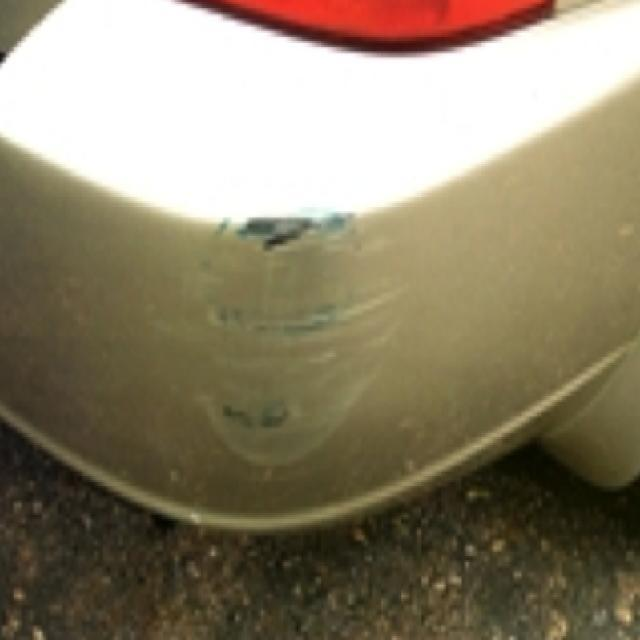scratch: (162, 195, 408, 470)
